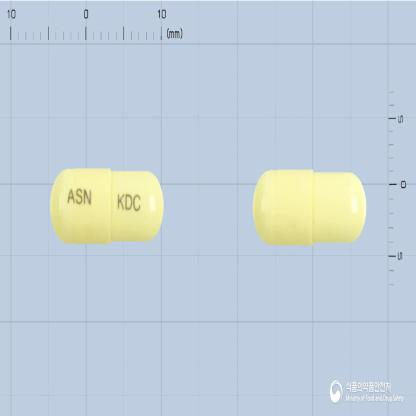pill: (47, 166, 165, 248), (251, 166, 368, 248)
